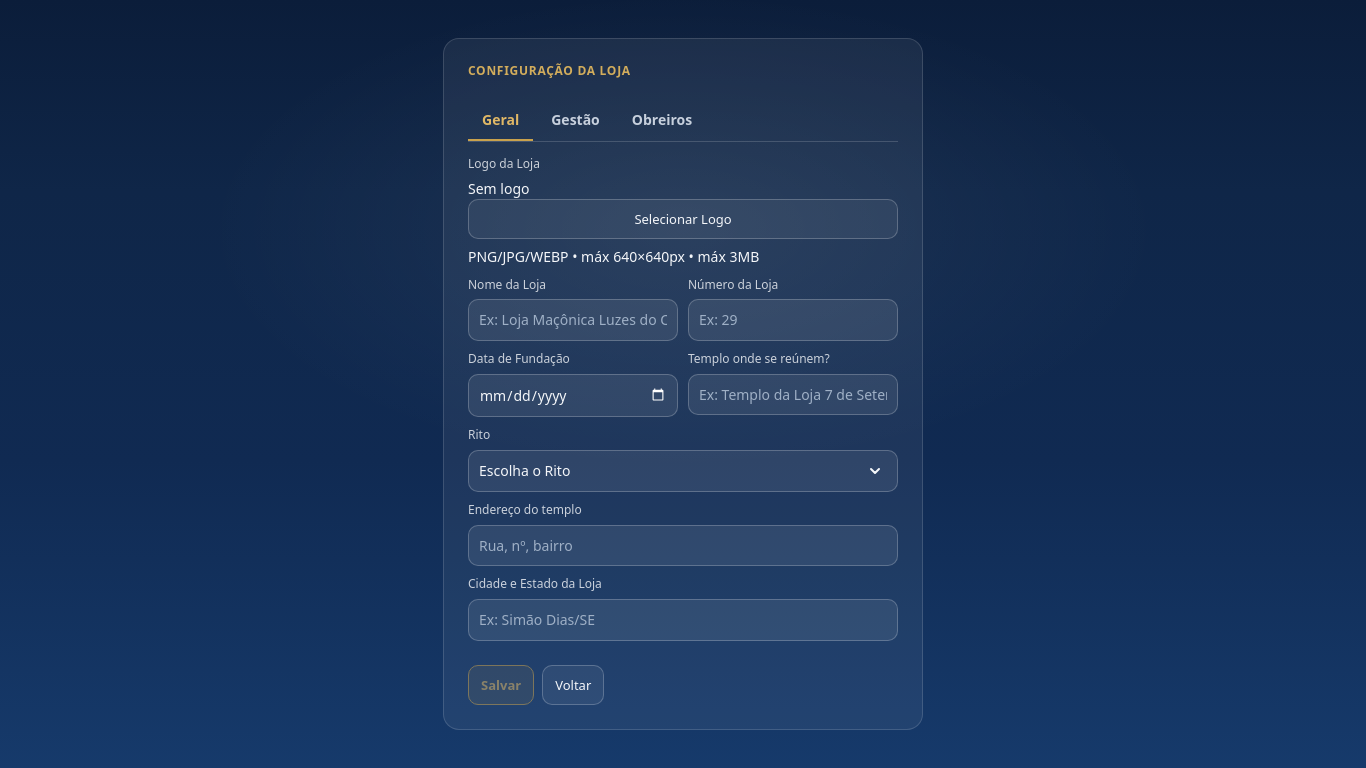
Test: LojaConfigScreen › mostra Salvar apenas na aba Geral, sempre ao lado de Voltar
Expected: the button "Salvar" is shown, [468,665,534,705]
Step 1. Click the tab "Gestão" → coordinates (576, 120), box [537,100,614,141]
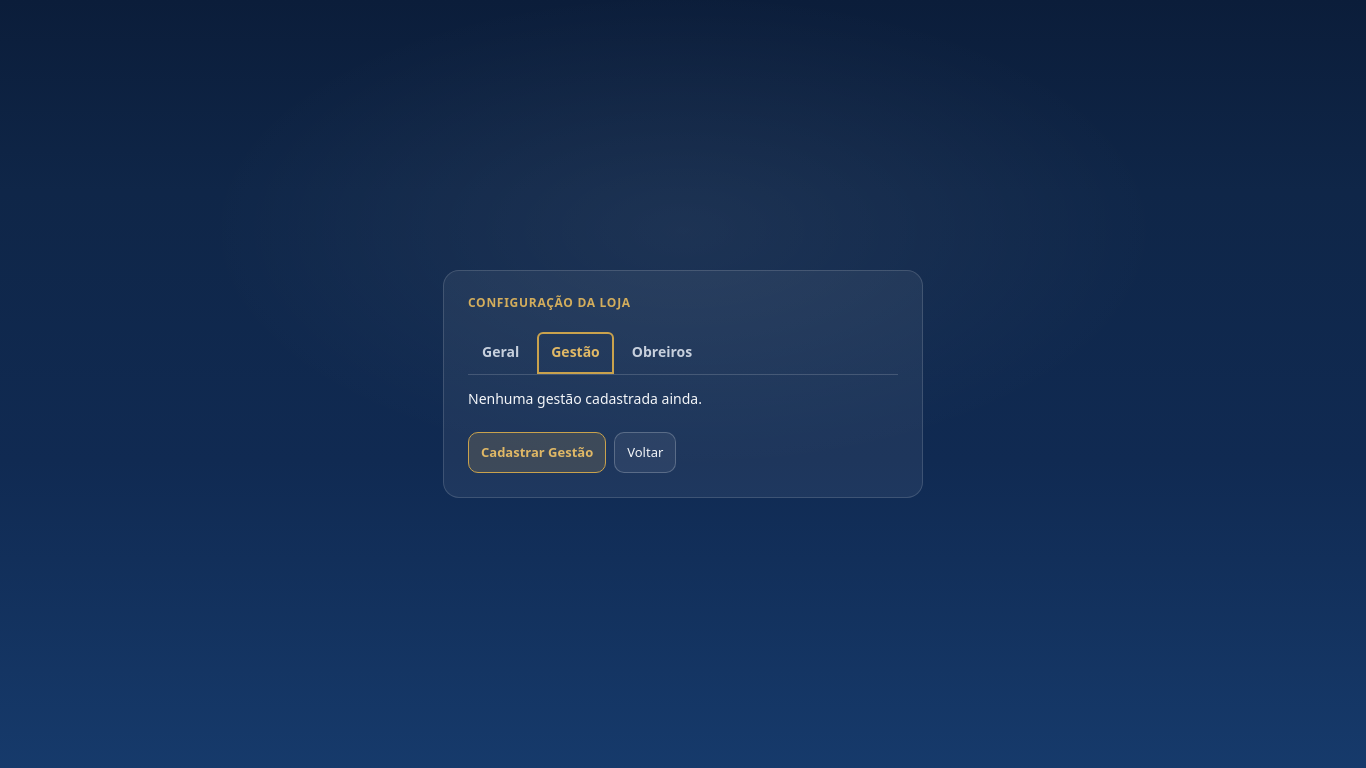
Expected: the button "Voltar" is shown, [614,432,676,473]
Now the button "Salvar" is gone
Step 2. Click the tab "Obreiros" → coordinates (662, 353), box [618,332,706,374]
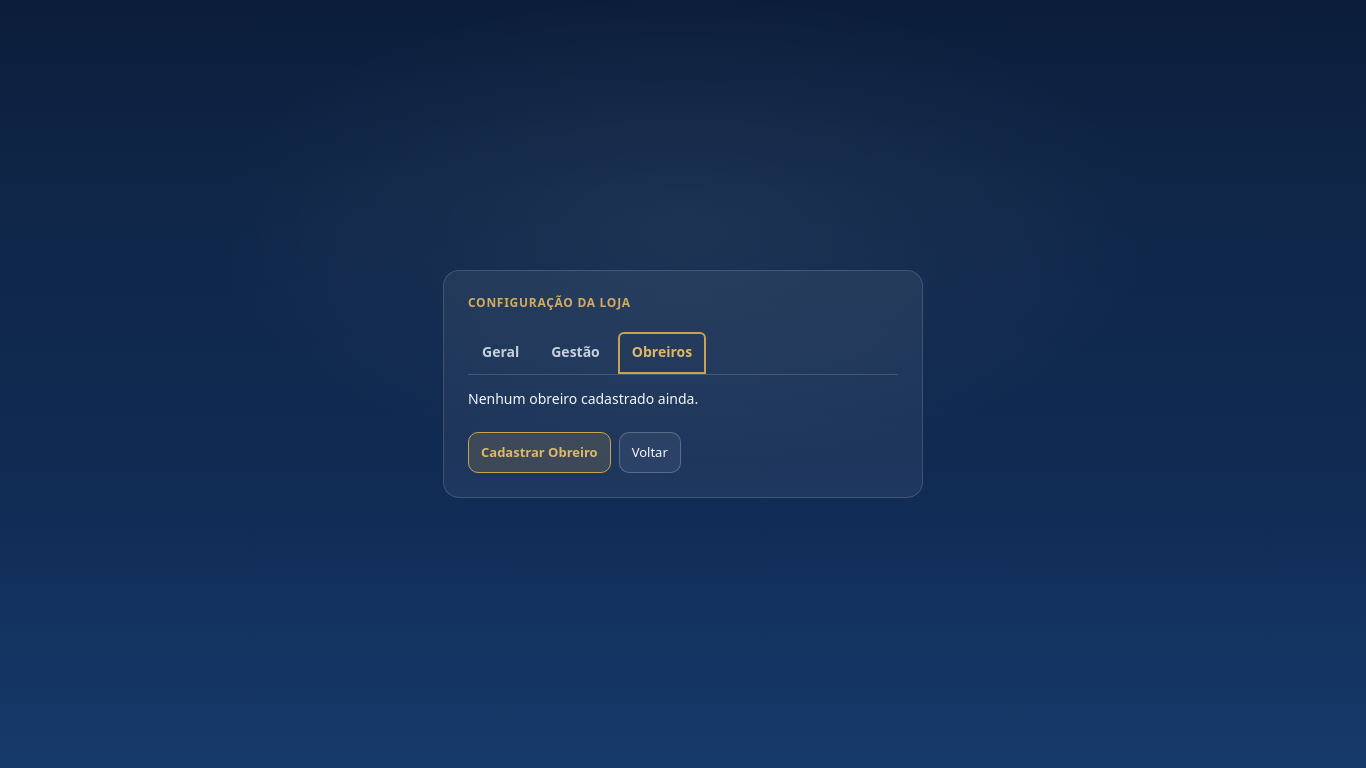
Expected: the button "Salvar" is not shown
Step 3. Click the tab "Geral" → coordinates (501, 353), box [468,332,533,374]
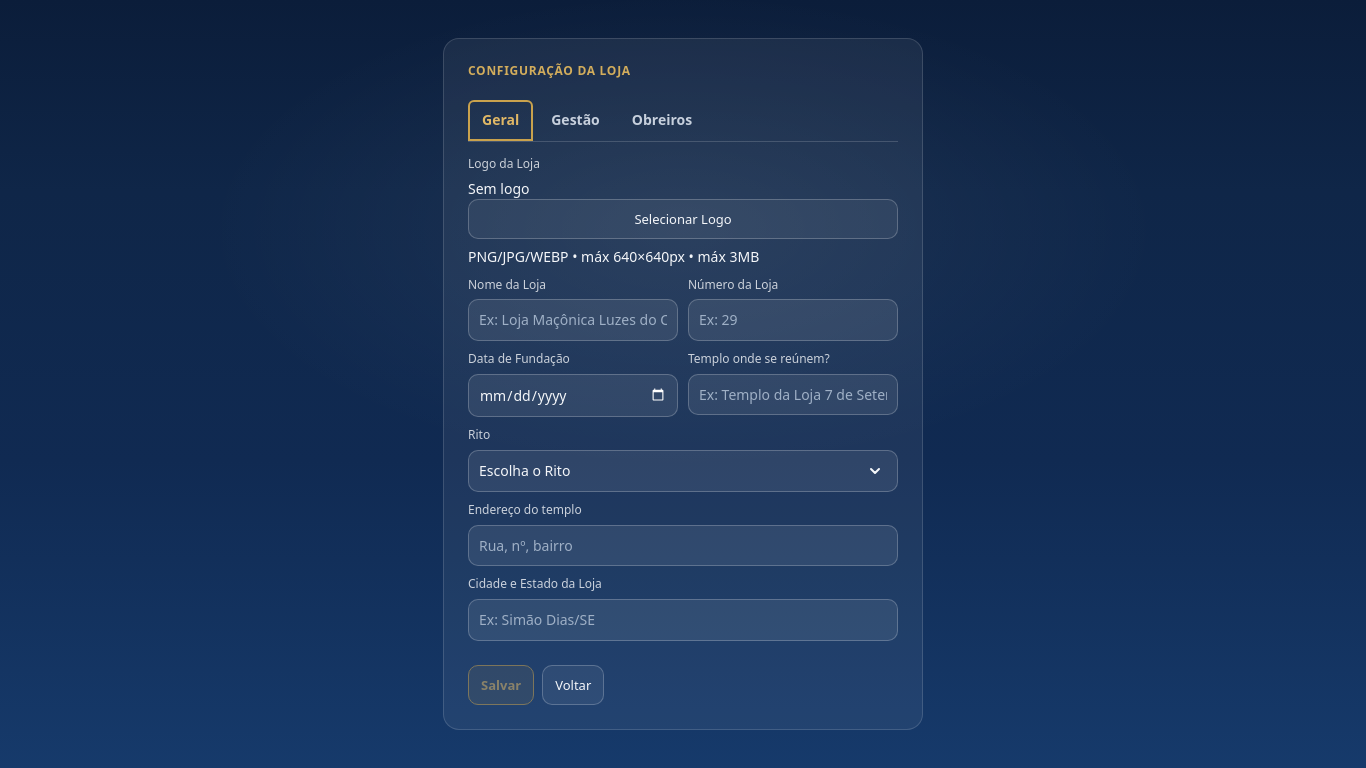
Now the button "Salvar" is shown, box [468,665,534,705]
